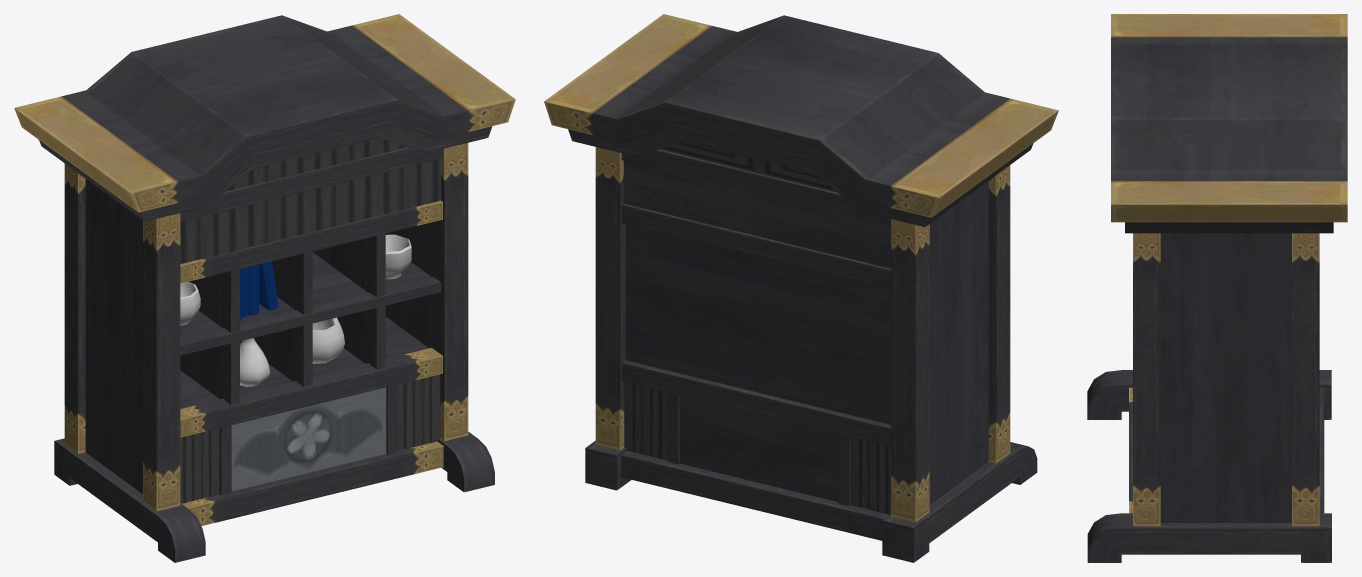
Rendered from Homeworld_Interior_Dq_Cabinet_Cabinet_01_Vo.fbx.
The picture shows the model from 3 angles, left to right: view 1: azimuth 30°, elevation 25°; view 2: azimuth 150°, elevation 25°; view 3: azimuth 270°, elevation 25°; orthographic projection. The views are drawn at different scales.
Parts seen in each view (by area): view 1: Indoor_Dq_Prop_Comp_Cabinet_02_Vo; view 2: Indoor_Dq_Prop_Comp_Cabinet_02_Vo; view 3: Indoor_Dq_Prop_Comp_Cabinet_02_Vo.
Part boxes in pixels (x1,y1,x2,y2): Indoor_Dq_Prop_Comp_Cabinet_02_Vo: (14,14,515,562); Indoor_Dq_Prop_Comp_Cabinet_02_Vo: (544,14,1058,562); Indoor_Dq_Prop_Comp_Cabinet_02_Vo: (1087,14,1347,562).
Size of the model in its own units: 1.47 by 1.45 by 0.8503.
